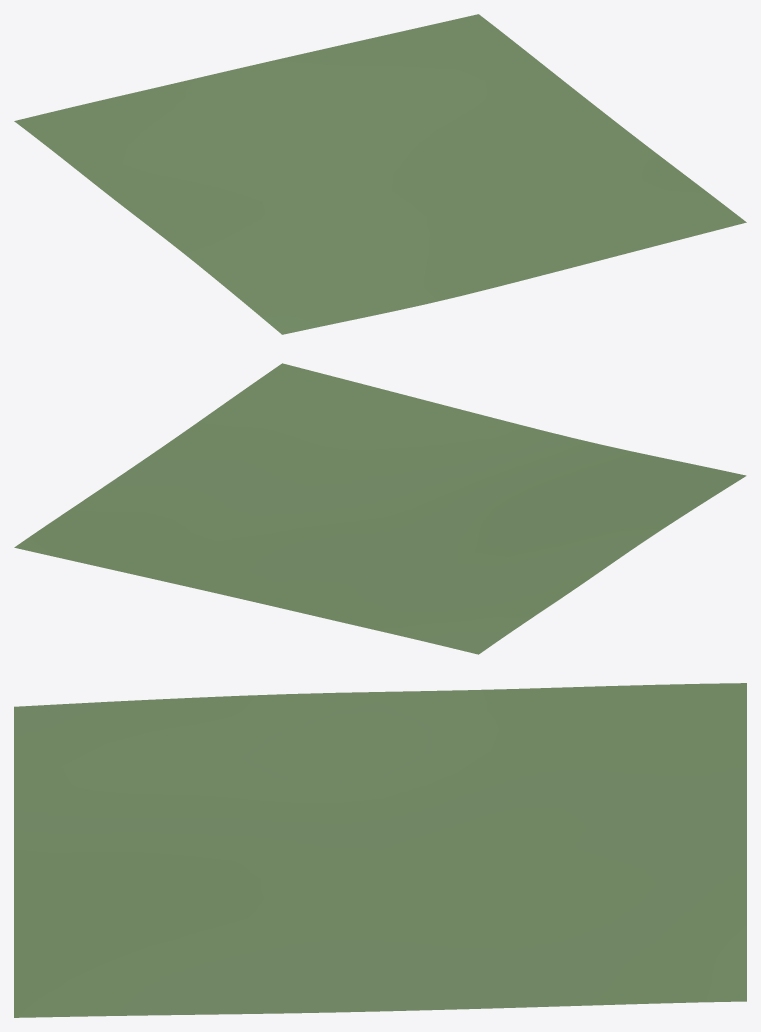
Rendered from floor_001_chunk_x-03_z+15_collision.glb.
3 views of the same model, one above another, from view 1: azimuth 30°, elevation 25°; view 2: azimuth 150°, elevation 25°; view 3: azimuth 270°, elevation 25° (orthographic). The views are drawn at different scales.
Visible parts, largest first — view 1: floor_001_chunk_x-03_z+15_collision; view 2: floor_001_chunk_x-03_z+15_collision; view 3: floor_001_chunk_x-03_z+15_collision.
Boxes of the visible parts, bbox=[...] form: floor_001_chunk_x-03_z+15_collision: bbox=[14, 14, 746, 334]; floor_001_chunk_x-03_z+15_collision: bbox=[14, 363, 746, 654]; floor_001_chunk_x-03_z+15_collision: bbox=[14, 683, 746, 1017].
Bounding box in the file's own units: 256 × 11.65 × 256.
